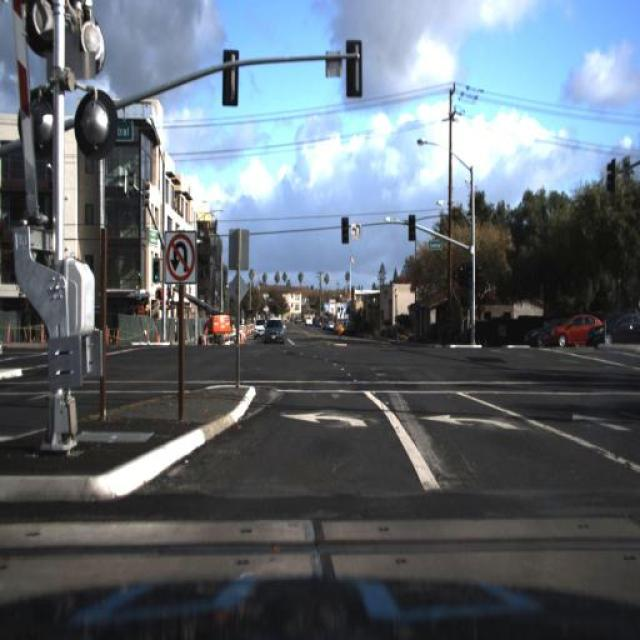car: (587, 314, 638, 350), (551, 316, 603, 346), (526, 316, 556, 346), (302, 307, 320, 331), (252, 316, 266, 346), (262, 317, 282, 338)
trafficLight-Green: (338, 211, 354, 251)
trafficLight-RedLeft: (406, 208, 418, 250), (461, 253, 473, 288), (340, 214, 349, 247)
